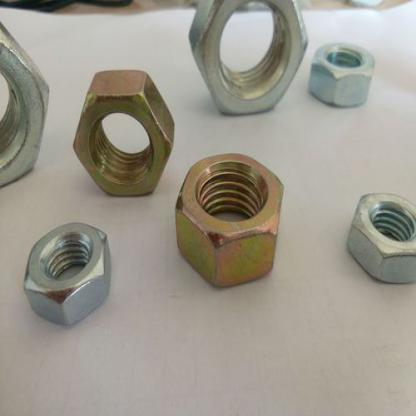FOD: (174, 149, 288, 290), (187, 0, 310, 121), (71, 66, 176, 197), (20, 222, 112, 328), (343, 186, 415, 291), (310, 39, 376, 112)
